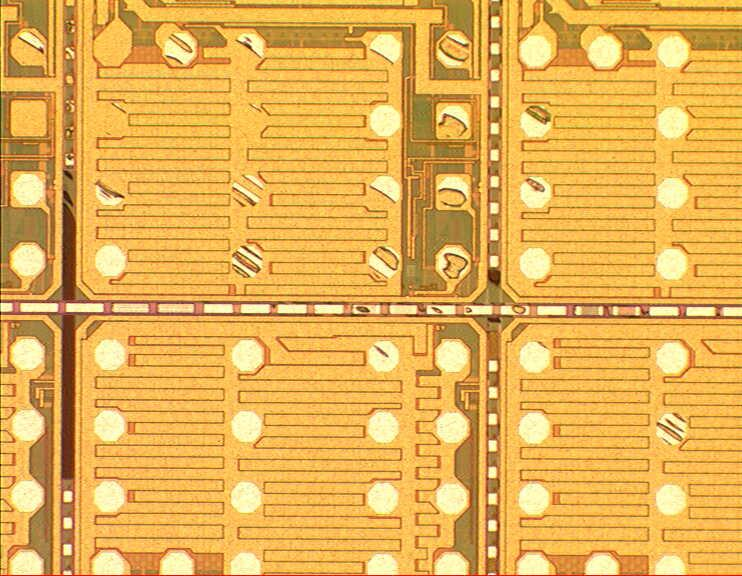COATING BAD: (13, 30, 696, 448)
